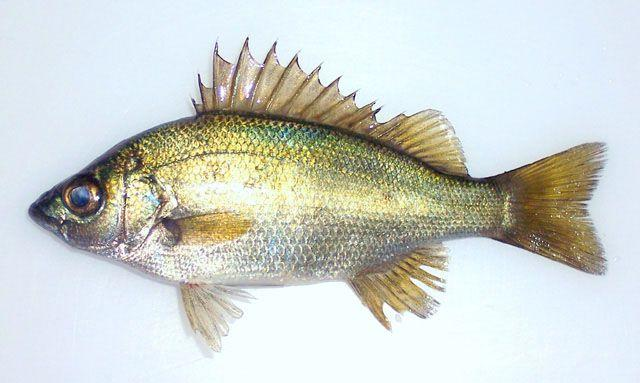Silver Perch: (25, 35, 618, 355)
